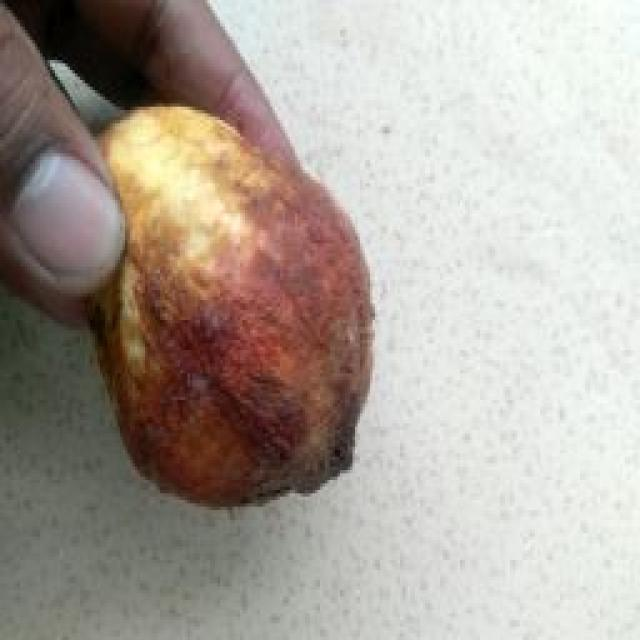Bad_Guava: (89, 110, 371, 504)
